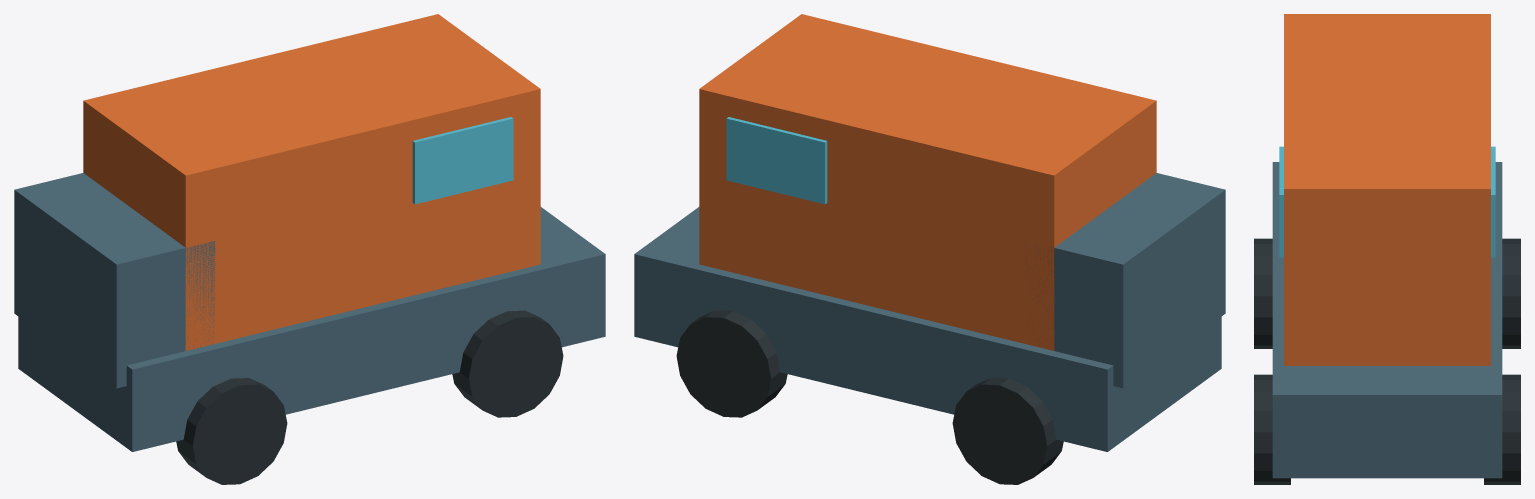
The model's file is 30_bridge_train.glb.
3 views of the same model, side by side, from view 1: azimuth 30°, elevation 25°; view 2: azimuth 150°, elevation 25°; view 3: azimuth 270°, elevation 25° (orthographic).
Visible parts, largest first — view 1: bridge_train_body, bridge_train_chassis, bridge_train_nose, bridge_train_wheel_-7_-5, bridge_train_wheel_+7_-5, bridge_train_window; view 2: bridge_train_body, bridge_train_chassis, bridge_train_nose, bridge_train_wheel_-7_+5, bridge_train_wheel_+7_+5, bridge_train_window; view 3: bridge_train_body, bridge_train_chassis, bridge_train_wheel_+7_+5, bridge_train_wheel_+7_-5, bridge_train_wheel_-7_+5, bridge_train_wheel_-7_-5, bridge_train_window.
Boxes of the visible parts, x1,y1,x2,y2 form: bridge_train_body: (83,14,540,350); bridge_train_chassis: (18,207,605,451); bridge_train_nose: (14,173,215,388); bridge_train_wheel_-7_-5: (176,378,287,484); bridge_train_wheel_+7_-5: (452,310,563,417); bridge_train_window: (412,117,513,204); bridge_train_body: (699,14,1156,350); bridge_train_chassis: (634,207,1221,451); bridge_train_nose: (1025,173,1225,388); bridge_train_wheel_-7_+5: (952,378,1063,484); bridge_train_wheel_+7_+5: (676,310,787,417); bridge_train_window: (726,117,827,204); bridge_train_body: (1284,14,1490,365); bridge_train_chassis: (1272,162,1502,478); bridge_train_wheel_+7_+5: (1484,374,1520,484); bridge_train_wheel_+7_-5: (1254,374,1290,484); bridge_train_wheel_-7_+5: (1502,238,1520,348); bridge_train_wheel_-7_-5: (1254,238,1272,348); bridge_train_window: (1279,146,1495,257).
Size of the model in its own units: 24.5 by 14.9 by 11.6.
